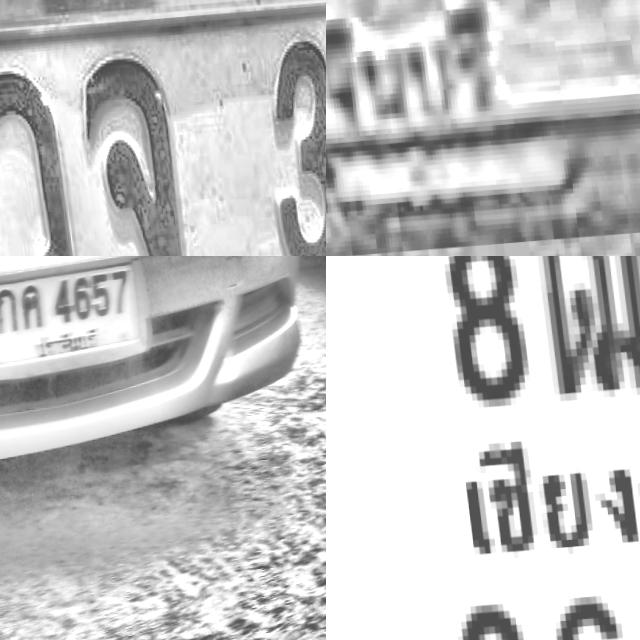license-plate: (326, 256, 640, 640), (0, 0, 326, 256), (326, 0, 640, 256), (0, 257, 151, 376)
